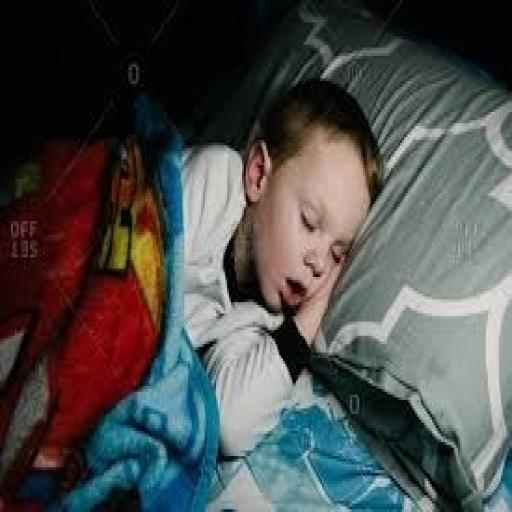sleeping: (0, 72, 387, 509)
